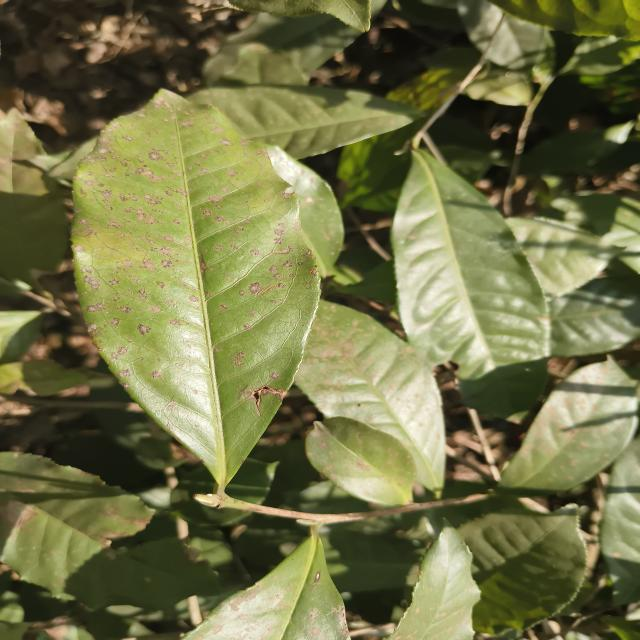Leaf: (74, 90, 319, 490), (391, 150, 550, 417), (0, 452, 225, 608), (295, 300, 445, 493), (500, 359, 638, 495), (183, 534, 349, 640), (187, 85, 423, 159), (458, 511, 586, 633), (0, 109, 69, 284), (203, 13, 361, 83), (389, 523, 480, 640), (305, 417, 416, 505), (505, 217, 618, 296), (544, 194, 640, 273), (548, 277, 640, 357), (600, 438, 640, 604), (325, 530, 421, 593), (521, 121, 634, 174), (171, 466, 245, 526), (343, 155, 411, 211), (487, 14, 547, 69), (0, 360, 87, 396), (28, 138, 97, 182), (438, 143, 499, 183), (457, 0, 502, 52), (229, 459, 279, 504)
